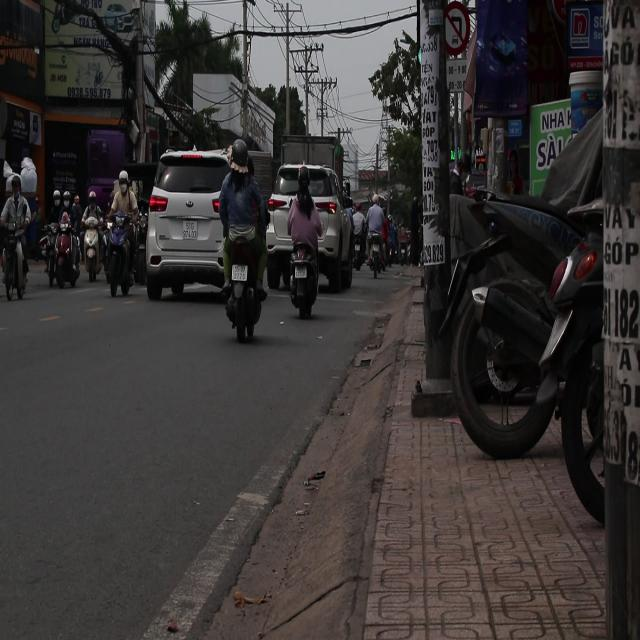car: (143, 148, 230, 303), (273, 163, 351, 300)
motorbike: (218, 213, 269, 344), (0, 200, 45, 313), (103, 216, 137, 296), (288, 238, 318, 319), (54, 220, 82, 289), (82, 215, 104, 284), (366, 220, 391, 279), (350, 206, 370, 274)
